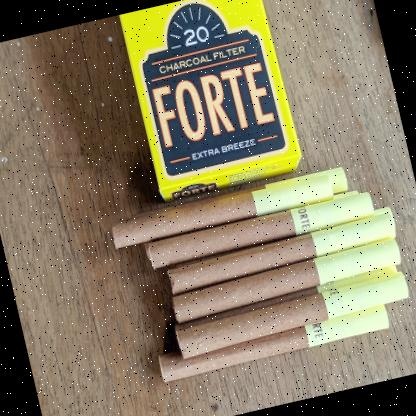bungkus rokok: (111, 0, 309, 214)
